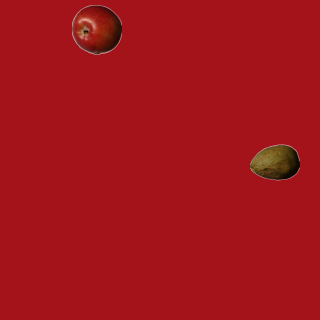Apple Braeburn: (71, 4, 121, 54)
Papaya: (249, 137, 299, 187)
